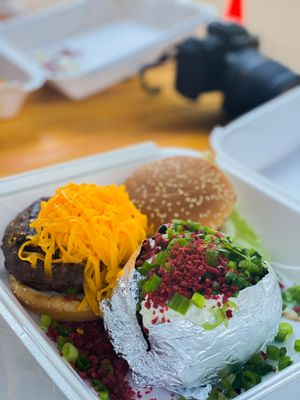soup: (1, 182, 148, 321)
sushi: (209, 81, 300, 291)
